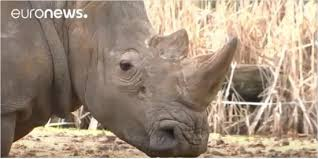Rhinoceros: (36, 1, 246, 159)
